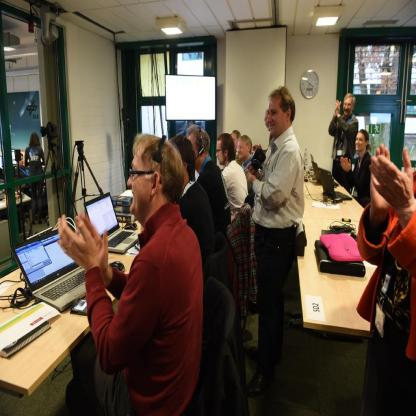board: (15, 205, 93, 311), (86, 193, 137, 252), (318, 168, 352, 199), (312, 163, 338, 186), (312, 154, 313, 162)
